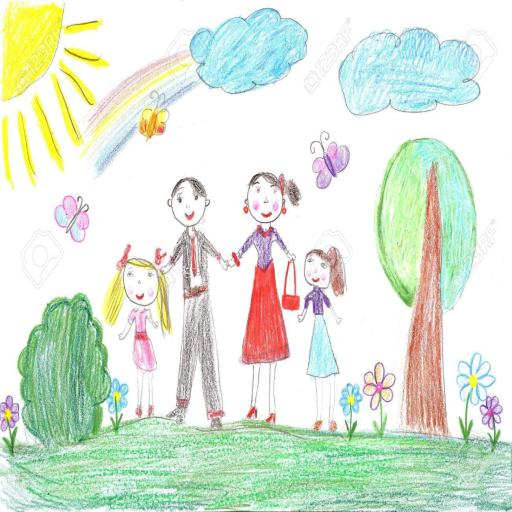person: (228, 130, 299, 436), (159, 153, 232, 431), (106, 237, 174, 434), (302, 238, 350, 437)
